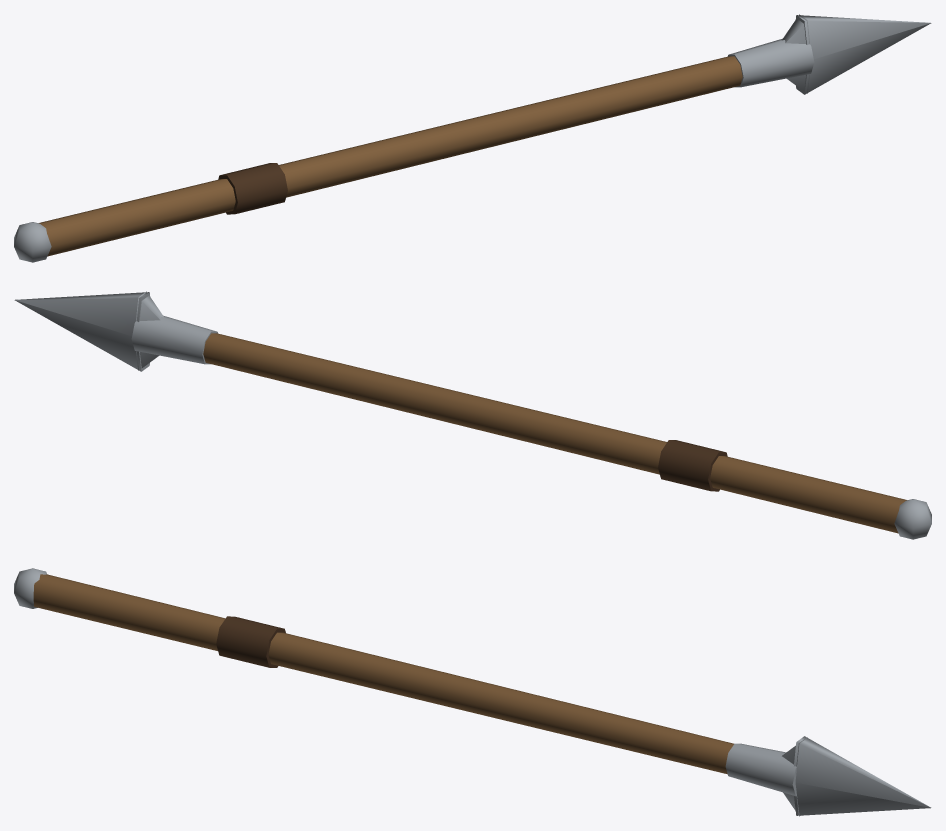
The model's file is thrown-spear.glb.
3 renders of one model, top to bottom at view 1: azimuth 30°, elevation 25°; view 2: azimuth 150°, elevation 25°; view 3: azimuth 330°, elevation 25°, orthographic.
Visible parts, largest first — view 1: Mesh_Shaft, Mesh_PointA, Mesh_Socket, Mesh_Binding, Mesh_Butt, Mesh_PointB; view 2: Mesh_Shaft, Mesh_PointA, Mesh_Socket, Mesh_Binding, Mesh_Butt, Mesh_PointB; view 3: Mesh_Shaft, Mesh_PointA, Mesh_Socket, Mesh_Binding, Mesh_Butt.
Part boxes in pixels (bbox=[...]): Mesh_Shaft: bbox=[38, 56, 742, 256]; Mesh_PointA: bbox=[795, 15, 931, 94]; Mesh_Socket: bbox=[728, 38, 814, 87]; Mesh_Binding: bbox=[218, 163, 287, 214]; Mesh_Butt: bbox=[14, 222, 51, 262]; Mesh_PointB: bbox=[782, 14, 809, 93]; Mesh_Shaft: bbox=[203, 333, 907, 533]; Mesh_PointA: bbox=[14, 292, 150, 371]; Mesh_Socket: bbox=[131, 315, 217, 364]; Mesh_Binding: bbox=[658, 440, 727, 491]; Mesh_Butt: bbox=[894, 499, 931, 539]; Mesh_PointB: bbox=[136, 291, 163, 370]; Mesh_Shaft: bbox=[33, 574, 733, 774]; Mesh_PointA: bbox=[794, 736, 931, 815]; Mesh_Socket: bbox=[725, 743, 796, 796]; Mesh_Binding: bbox=[216, 616, 285, 667]; Mesh_Butt: bbox=[14, 568, 46, 608].
Bounding box in the file's own units: 2.93 × 0.2252 × 0.12.
